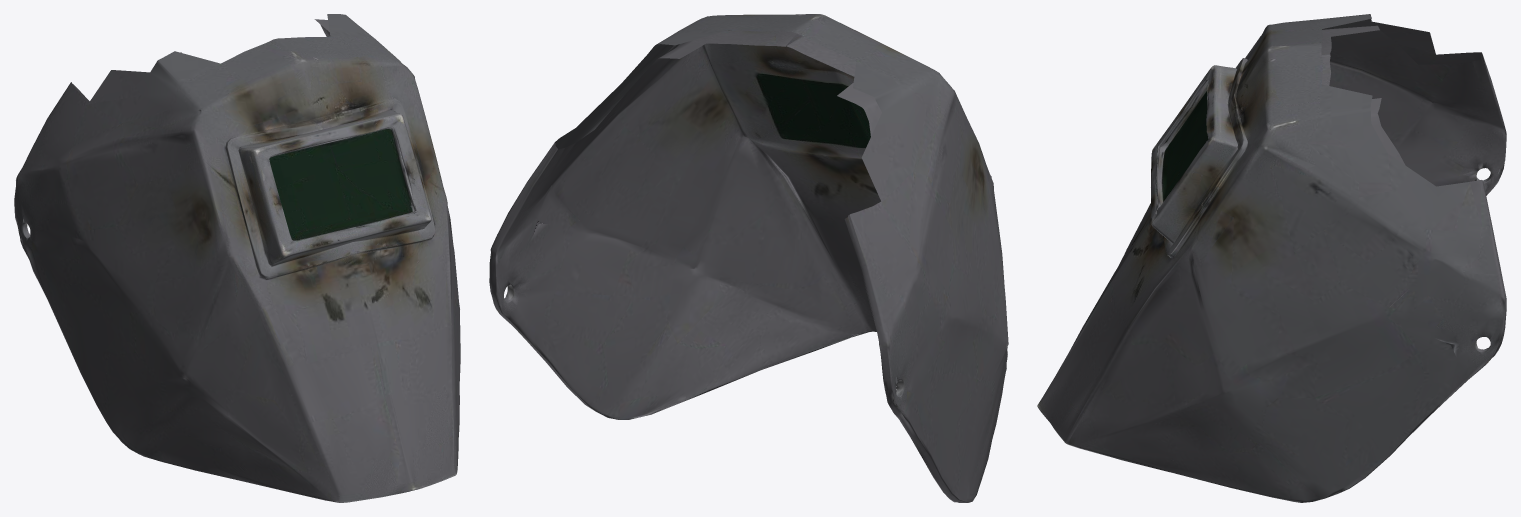
File: welder.glb
3 renders of one model, left to right at view 1: azimuth 30°, elevation 25°; view 2: azimuth 150°, elevation 25°; view 3: azimuth 270°, elevation 25°, orthographic. The views are drawn at different scales.
Visible parts, largest first — view 1: welder; view 2: welder; view 3: welder.
Boxes of the visible parts, x1,y1,x2,y2 form: welder: (14, 14, 460, 502); welder: (489, 14, 1008, 502); welder: (1037, 14, 1506, 502).
Bounding box in the file's own units: 0.385 × 0.3956 × 0.4384.
1 material, 1 textured.
